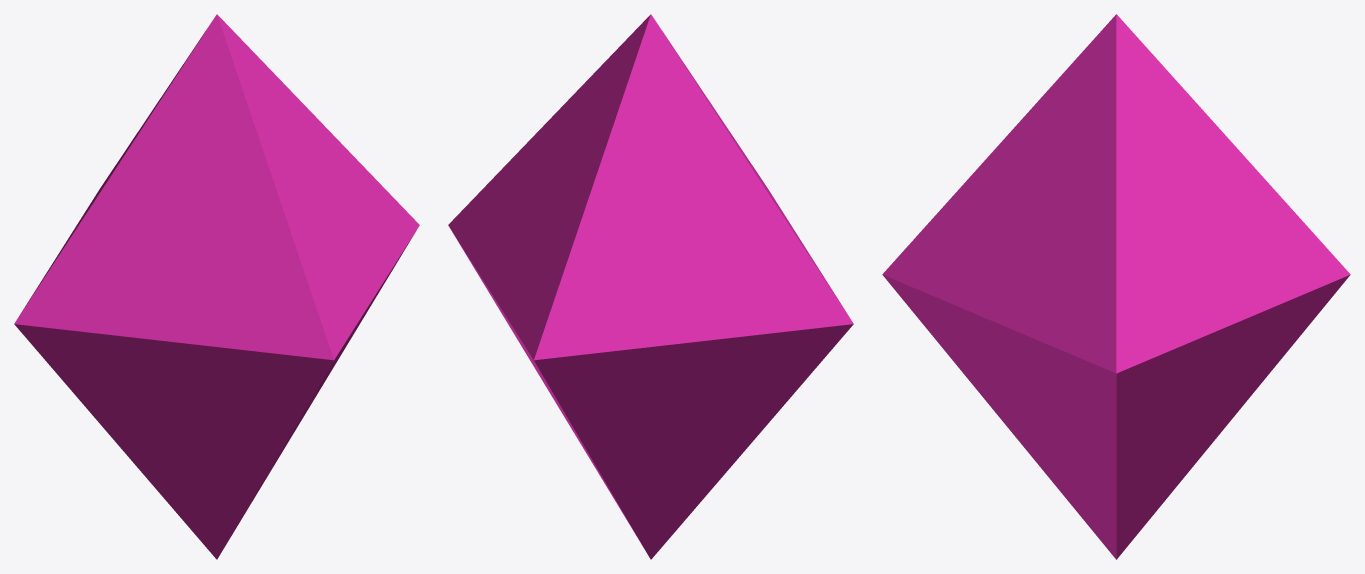
File: elmas.fbx
3 renders of one model, left to right at view 1: azimuth 30°, elevation 25°; view 2: azimuth 150°, elevation 25°; view 3: azimuth 270°, elevation 25°, orthographic.
Parts seen in each view (by area): view 1: Cone.001; view 2: Cone.001; view 3: Cone.001.
Boxes of the visible parts, x1,y1,x2,y2 form: Cone.001: (14,14,419,559); Cone.001: (448,14,853,559); Cone.001: (882,14,1350,559).
Size of the model in its own units: 200 by 257 by 200.
